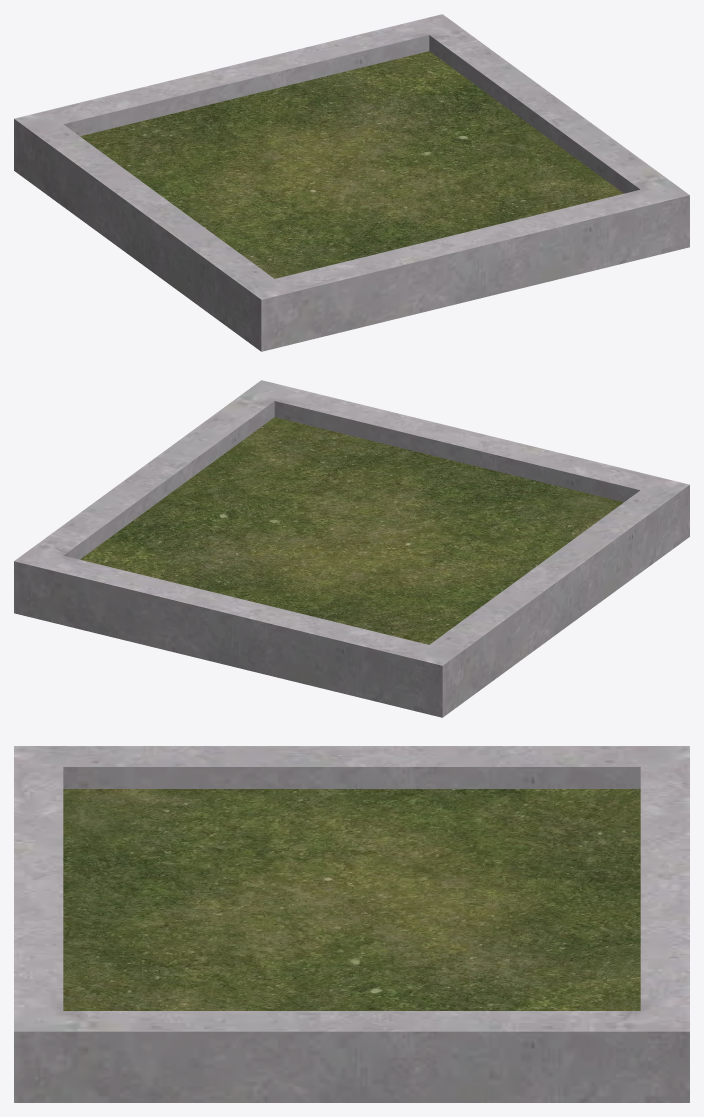
3 renders of one model, top to bottom at view 1: azimuth 30°, elevation 25°; view 2: azimuth 150°, elevation 25°; view 3: azimuth 270°, elevation 25°, orthographic. The views are drawn at different scales.
Visible parts, largest first — view 1: Box001; view 2: Box001; view 3: Box001.
Part boxes in pixels (x1,y1,x2,y2): Box001: [14, 14, 689, 351]; Box001: [14, 380, 689, 717]; Box001: [14, 746, 689, 1102].
Size of the model in its own units: 1 by 0.1161 by 1.
2 materials, 2 textured.
